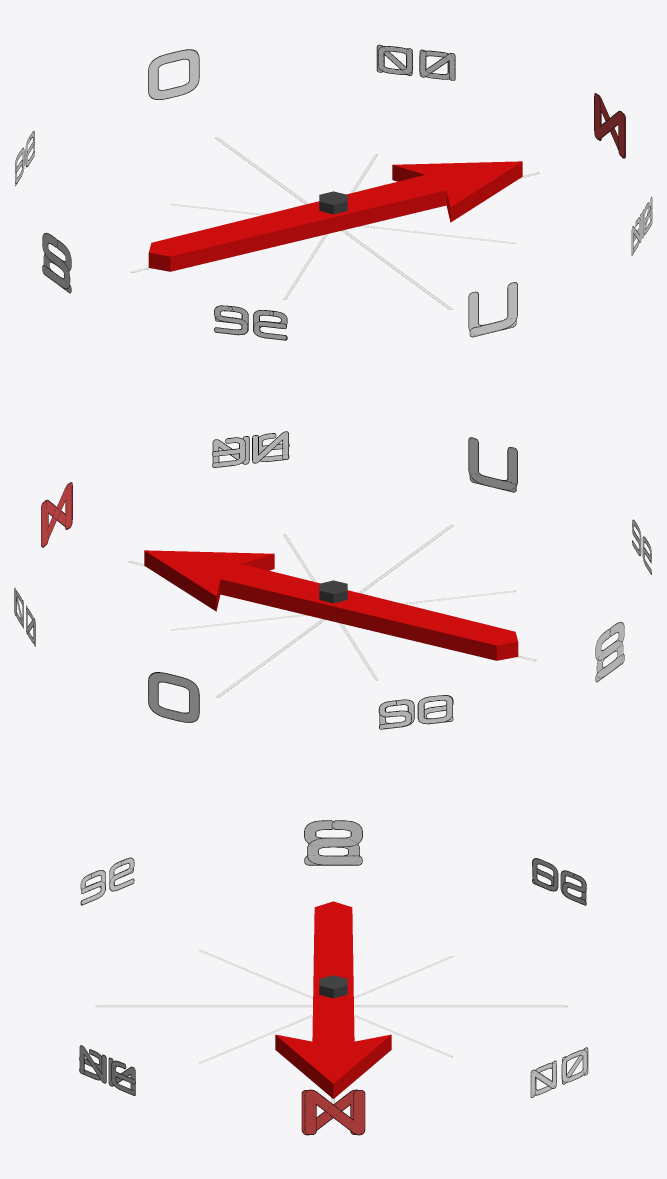
Rendered from Compass.fbx.
3 renders of one model, top to bottom at view 1: azimuth 30°, elevation 25°; view 2: azimuth 150°, elevation 25°; view 3: azimuth 270°, elevation 25°, orthographic.
Visible parts, largest first — view 1: Arrow, Compass; view 2: Arrow, Compass; view 3: Compass, Arrow.
Part boxes in pixels (x1,y1,x2,y2): Arrow: (148, 161, 522, 271); Compass: (15, 44, 652, 340); Arrow: (144, 550, 518, 660); Compass: (14, 431, 651, 729); Compass: (79, 820, 588, 1135); Arrow: (275, 901, 391, 1098).
Bounding box in the file's own units: 173 × 30.68 × 173.
Materials: 3 (1 with a texture image).
